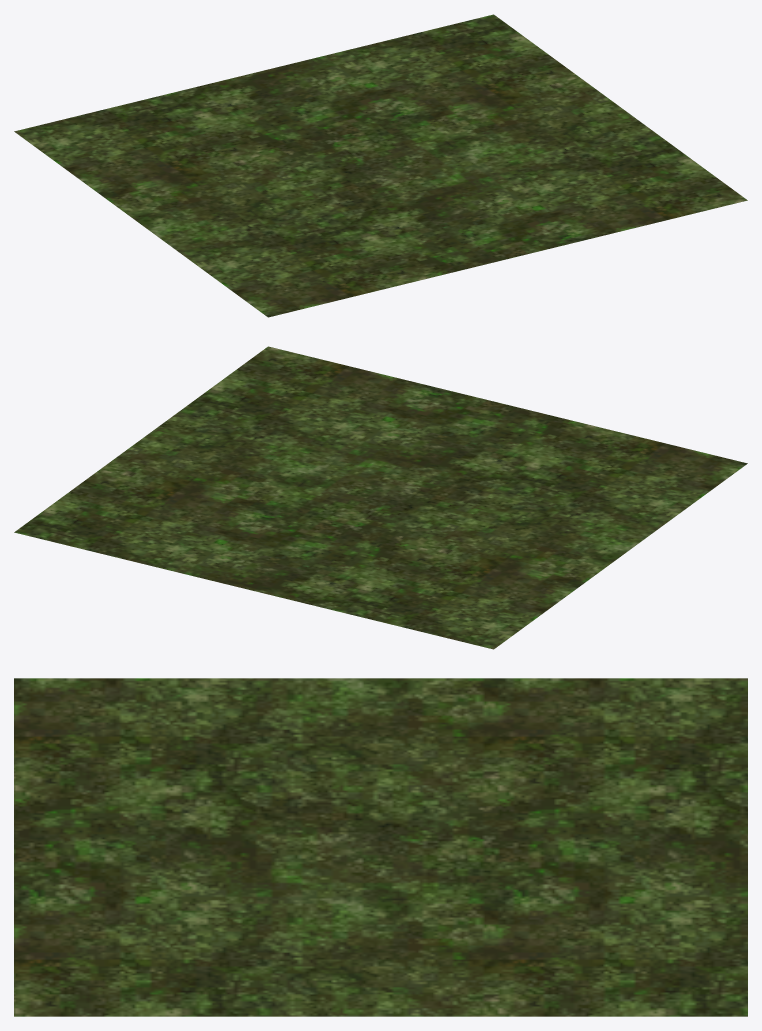
Rendered from OVERHILL_A_01_PLANE133.fbx.
The picture shows the model from 3 angles, top to bottom: view 1: azimuth 30°, elevation 25°; view 2: azimuth 150°, elevation 25°; view 3: azimuth 270°, elevation 25°; orthographic projection. The views are drawn at different scales.
Parts seen in each view (by area): view 1: OVERHILL_A_01_PLANE133; view 2: OVERHILL_A_01_PLANE133; view 3: OVERHILL_A_01_PLANE133.
Part boxes in pixels (x1,y1,x2,y2): OVERHILL_A_01_PLANE133: (14, 14, 747, 317); OVERHILL_A_01_PLANE133: (14, 346, 747, 649); OVERHILL_A_01_PLANE133: (14, 678, 747, 1016).
Bounding box in the file's own units: 53148 × 0.0446 × 48762.
1 material, 1 textured.
